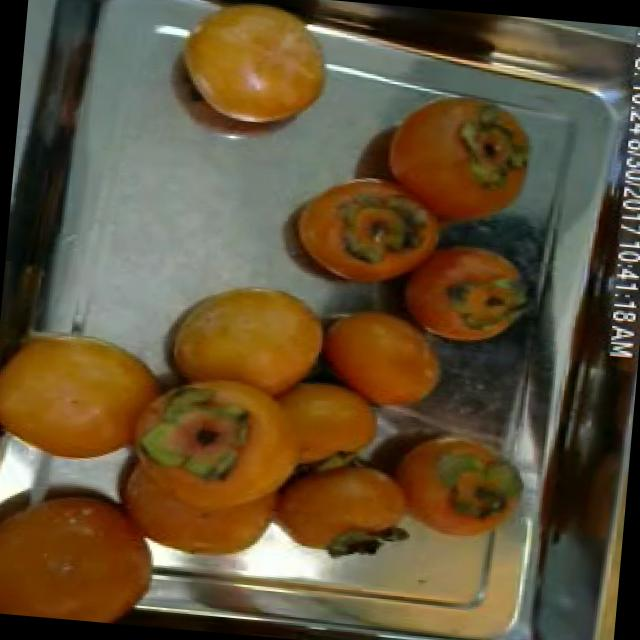Fruit: (134, 257, 349, 440), (342, 80, 556, 251), (0, 304, 190, 488), (153, 0, 350, 154), (0, 463, 181, 628), (268, 156, 467, 306), (374, 220, 544, 362), (297, 291, 461, 424)
